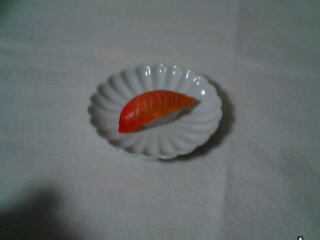002_classes: (118, 86, 197, 135)
